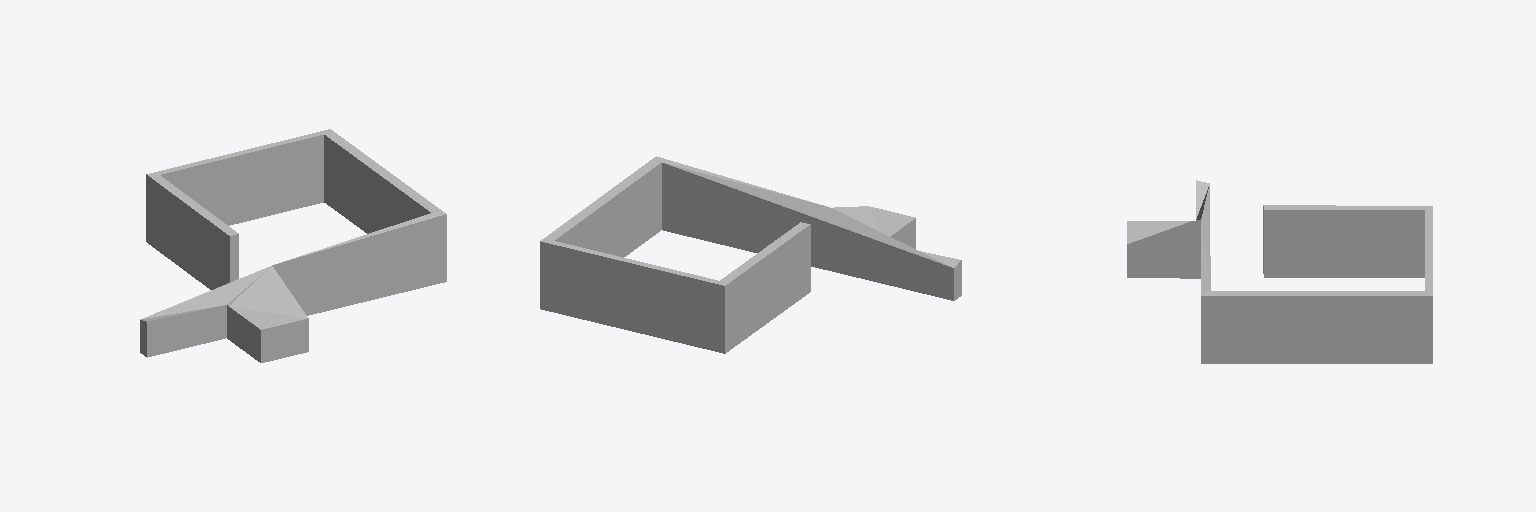
File: bright_111_3.obj
3 views of the same model, side by side, from view 1: azimuth 30°, elevation 25°; view 2: azimuth 150°, elevation 25°; view 3: azimuth 270°, elevation 25° (orthographic).
Visible parts, largest first — view 1: polySurface108 bright_111_2:polySurface29; view 2: polySurface108 bright_111_2:polySurface29; view 3: polySurface108 bright_111_2:polySurface29.
Part boxes in pixels (left/top/right/bottom): polySurface108 bright_111_2:polySurface29: left=140, top=129, right=446, bottom=362; polySurface108 bright_111_2:polySurface29: left=540, top=156, right=961, bottom=353; polySurface108 bright_111_2:polySurface29: left=1127, top=180, right=1432, bottom=363.
Bounding box in the file's own units: 99.07 × 21.25 × 87.03.